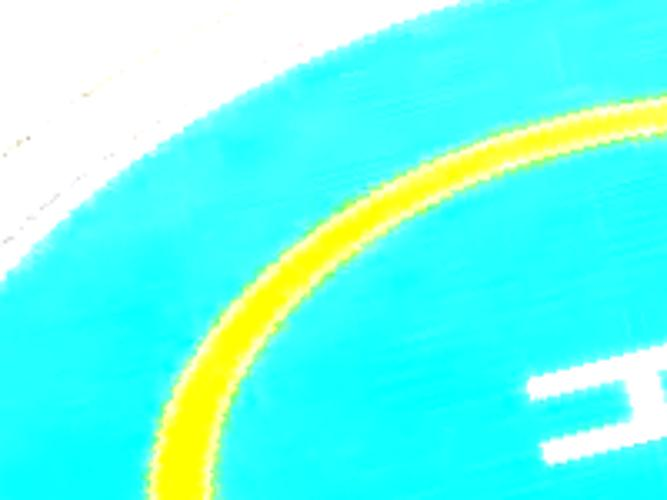Apron: (124, 80, 667, 500)
